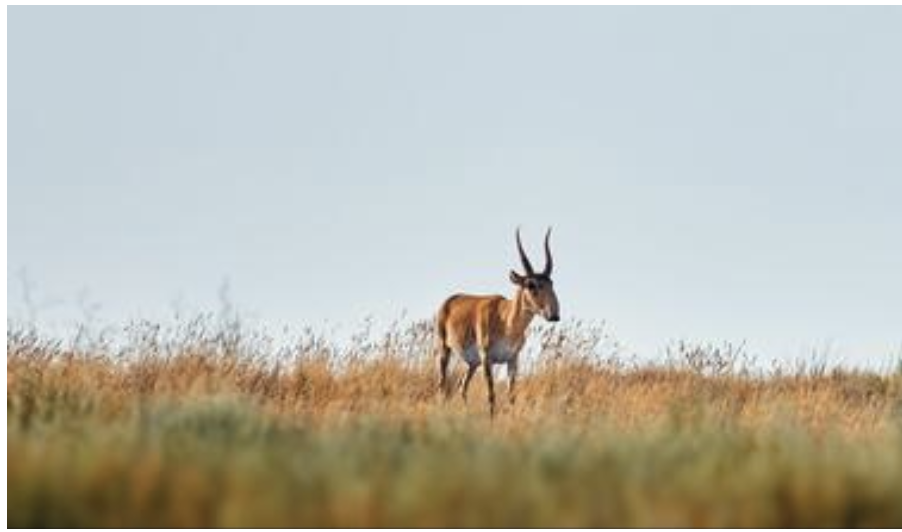saiga: (428, 227, 574, 414)
